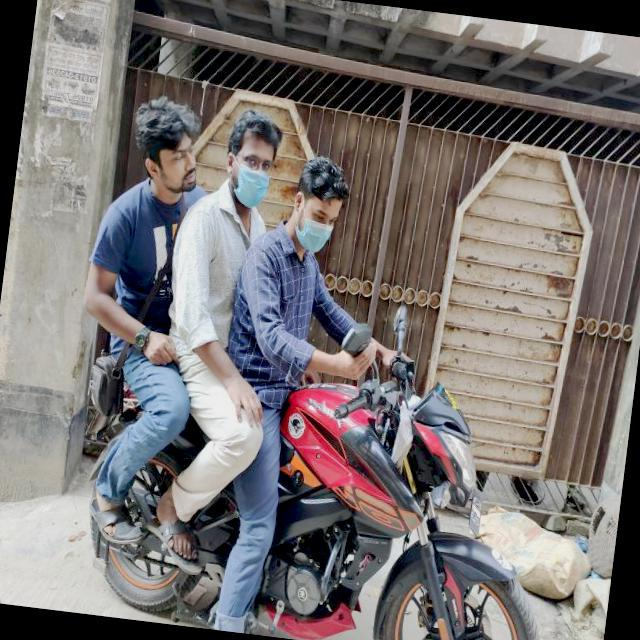motorcycle: (56, 331, 575, 640)
person: (195, 137, 366, 548), (60, 82, 234, 484), (142, 101, 310, 476)
rider_region: (42, 92, 606, 640)
